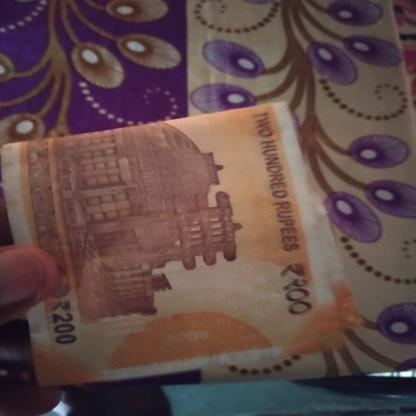New200Back: (27, 116, 303, 362)
